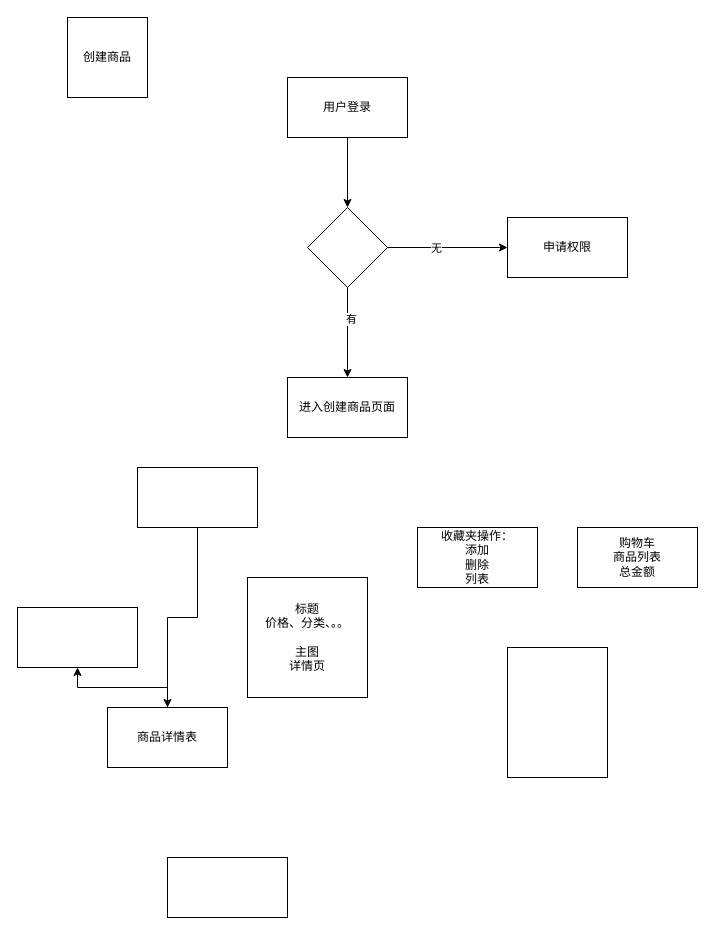
The diagram is 715 pixels wide and 935 high, and some of its shapes have lost their labels. The centre of each missing label's shape, as x and y in pixels:
"主图引用表" goes at point 77,637.
"商品信息表" goes at point 197,497.
"地址模块 地址列表 增加 修改 删除 详情" goes at point 557,712.
"是否有权限创建" goes at point 347,247.
